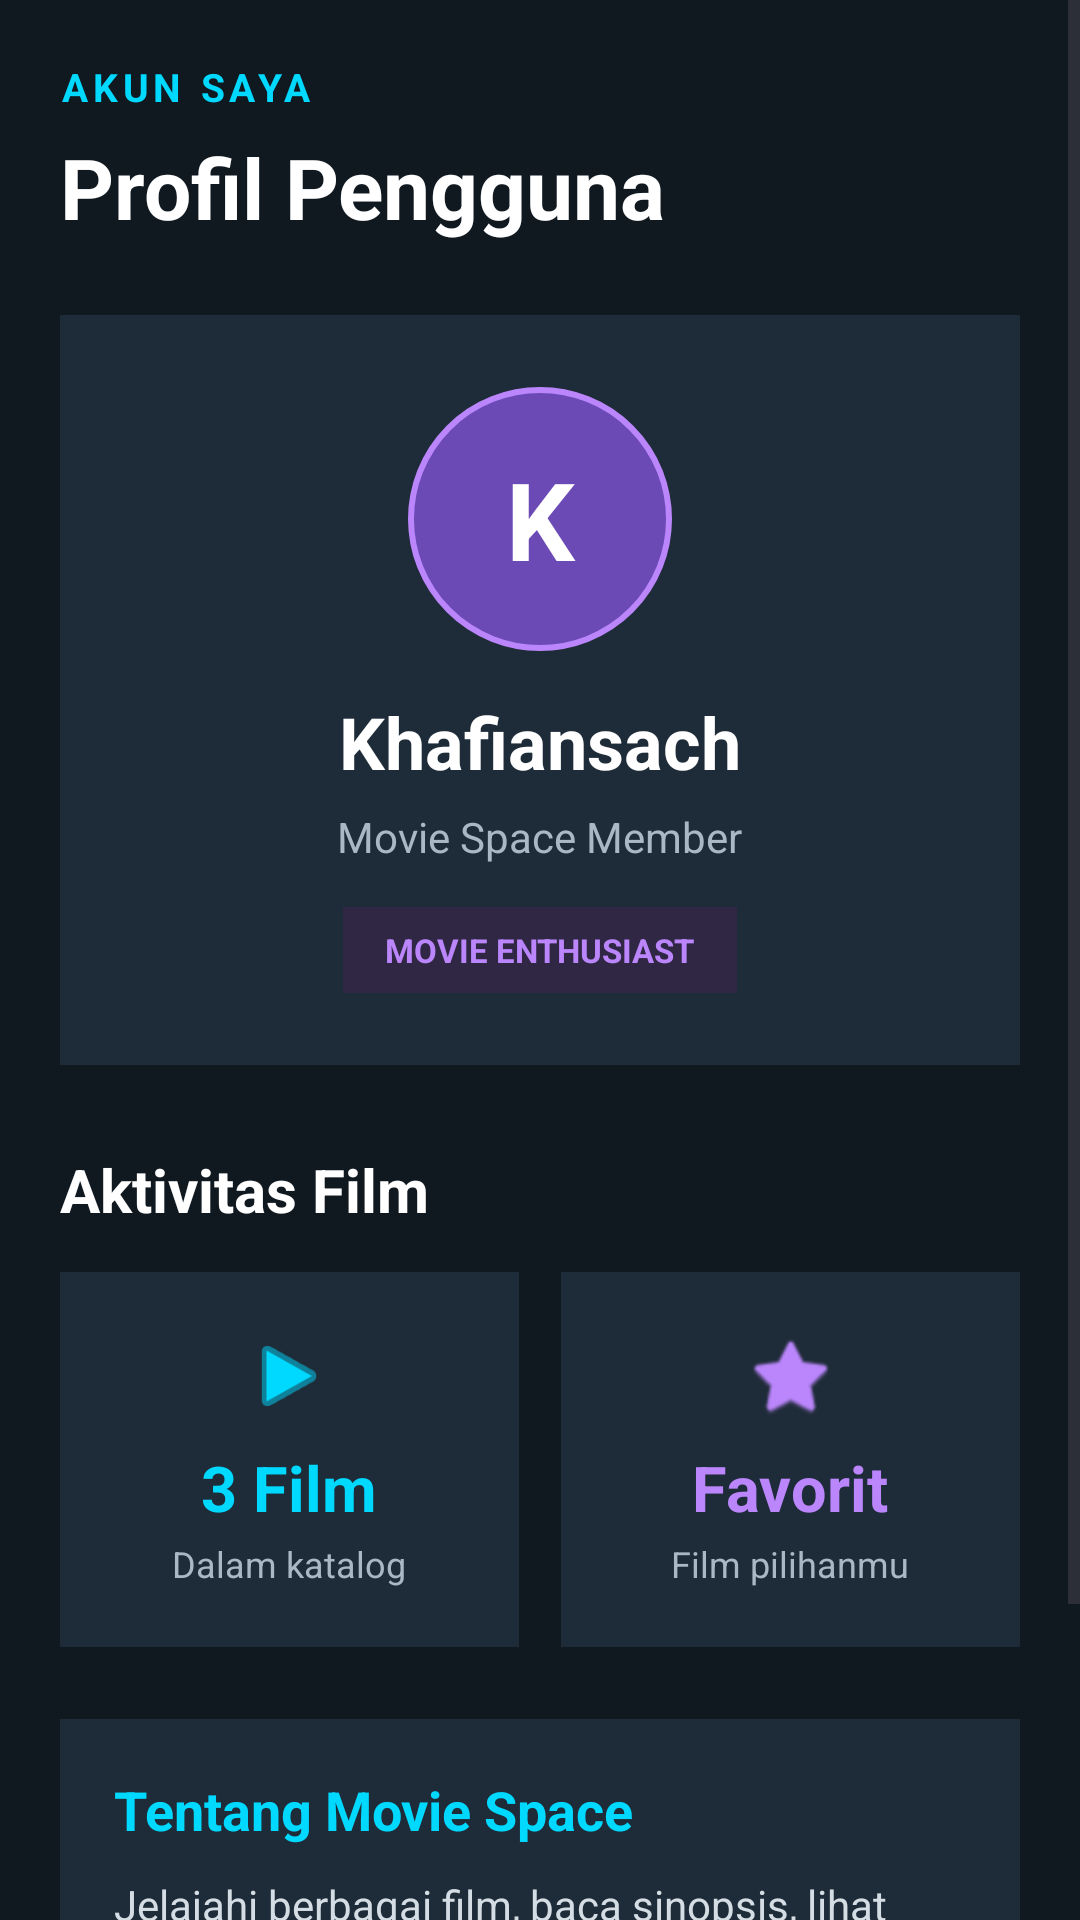

Icon bounding boxes for this 1080×1920 phone screenshot, format (x1, y1, x2, y2):
Ikon total film: (262, 1346, 316, 1406)
